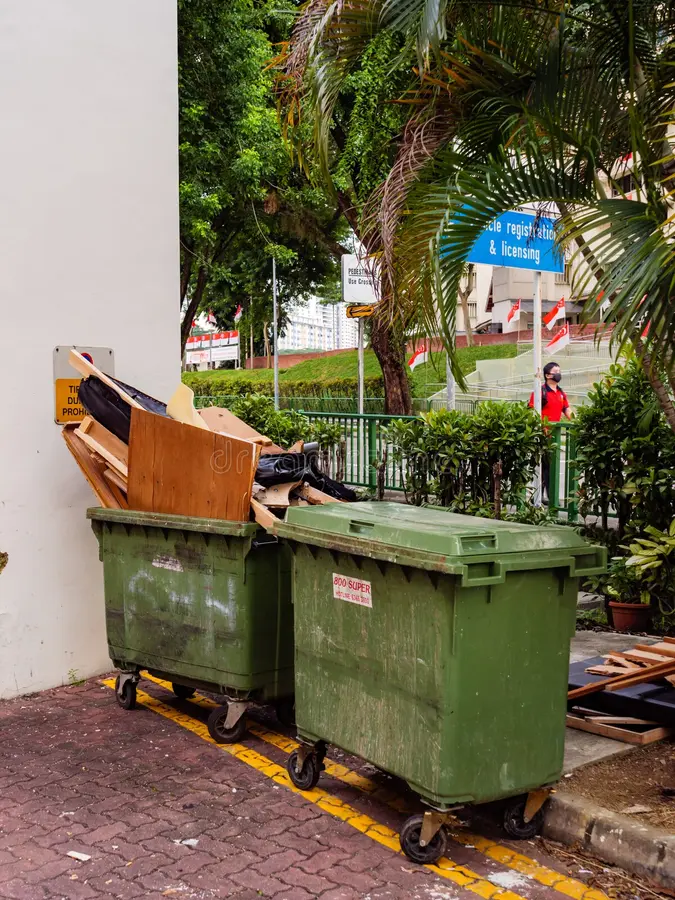bin_empty: (277, 503, 603, 809)
bin_full: (63, 367, 294, 742)
bulk_waste: (63, 408, 260, 522)
